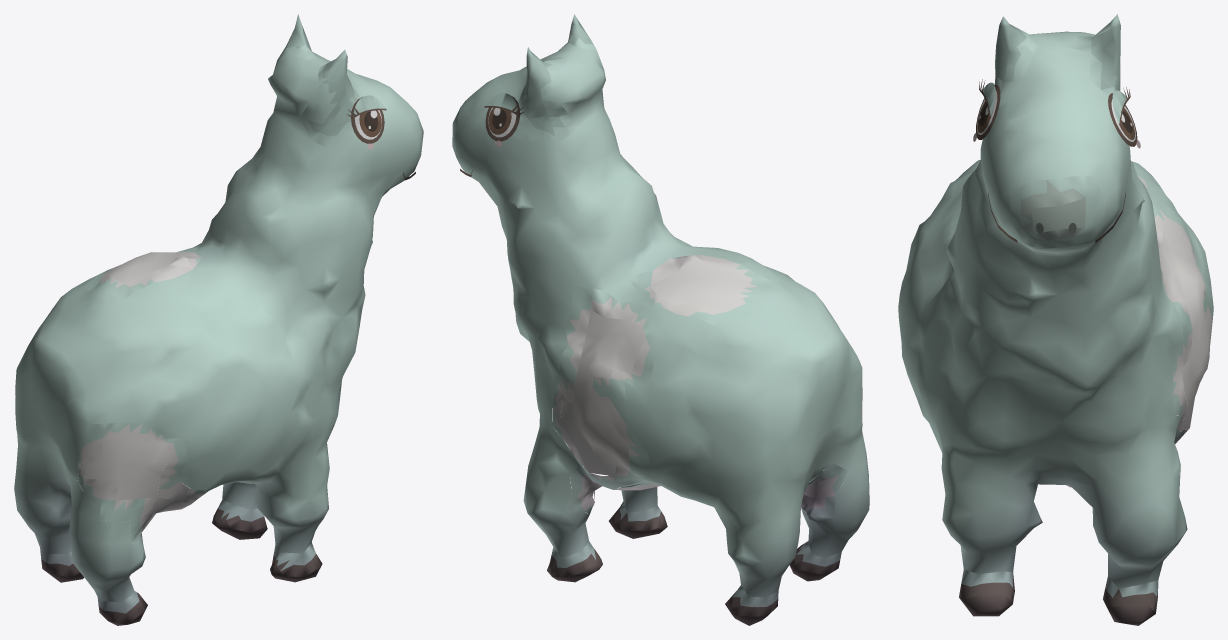
File: mint_alpaca.glb
3 renders of one model, left to right at view 1: azimuth 30°, elevation 25°; view 2: azimuth 150°, elevation 25°; view 3: azimuth 270°, elevation 25°, orthographic. The views are drawn at different scales.
Parts seen in each view (by area): view 1: mint_alpaca; view 2: mint_alpaca; view 3: mint_alpaca.
Boxes of the visible parts, x1,y1,x2,y2 form: mint_alpaca: [14, 14, 423, 625]; mint_alpaca: [452, 14, 869, 625]; mint_alpaca: [898, 14, 1213, 625].
Bounding box in the file's own units: 0.8073 × 1.05 × 0.4753.
